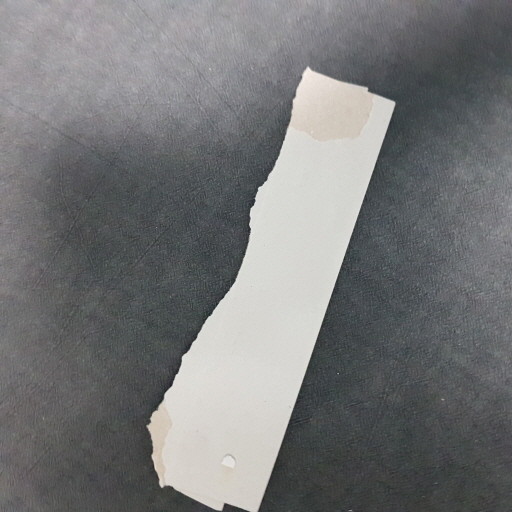Paper_2: (155, 67, 385, 512)
